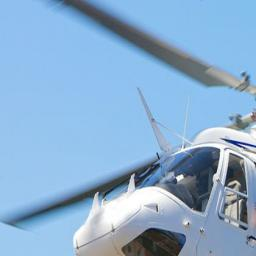helicopter: (22, 5, 256, 255)
